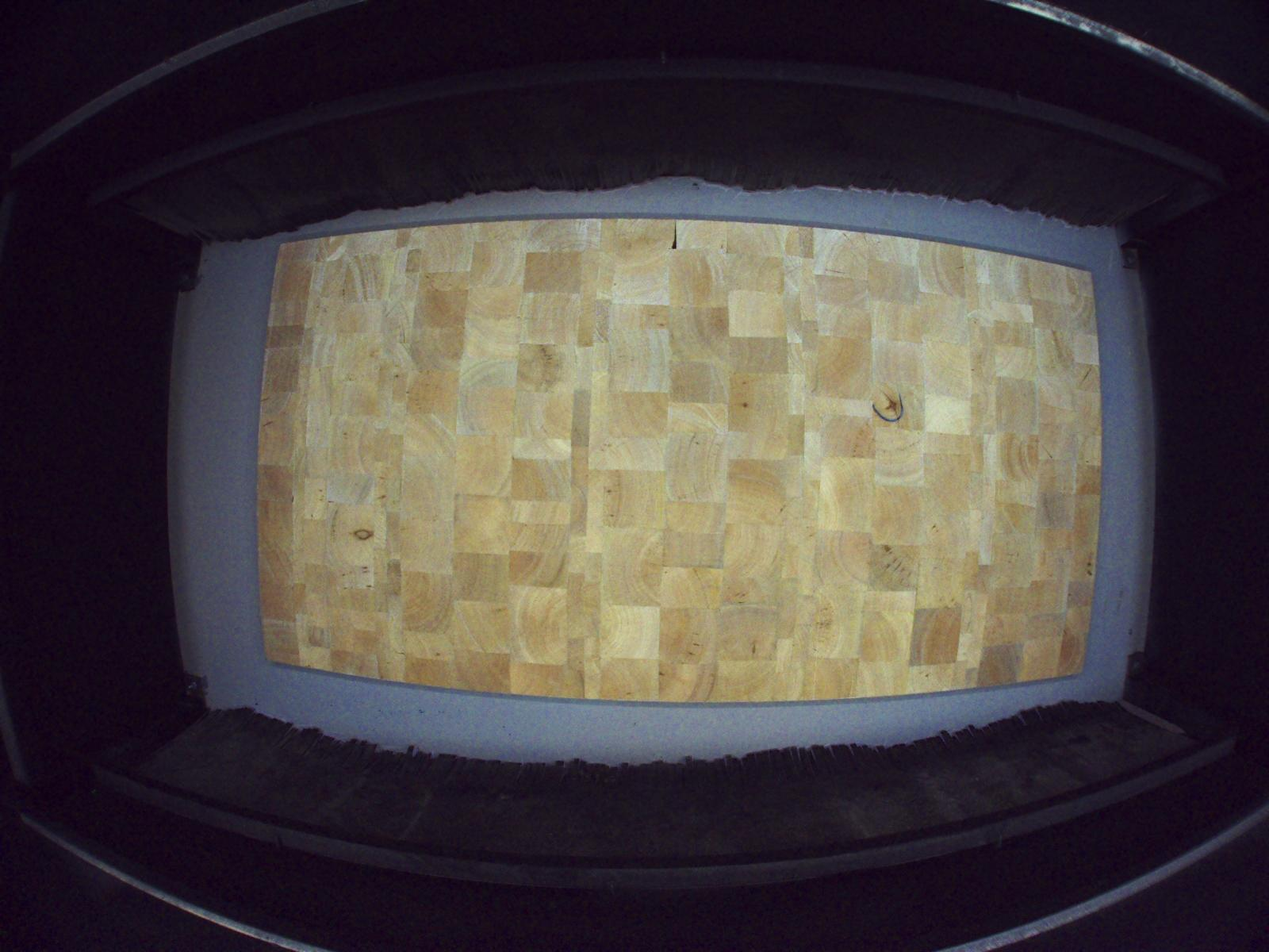sheck_ecuatoriano: (876, 385, 902, 427)
